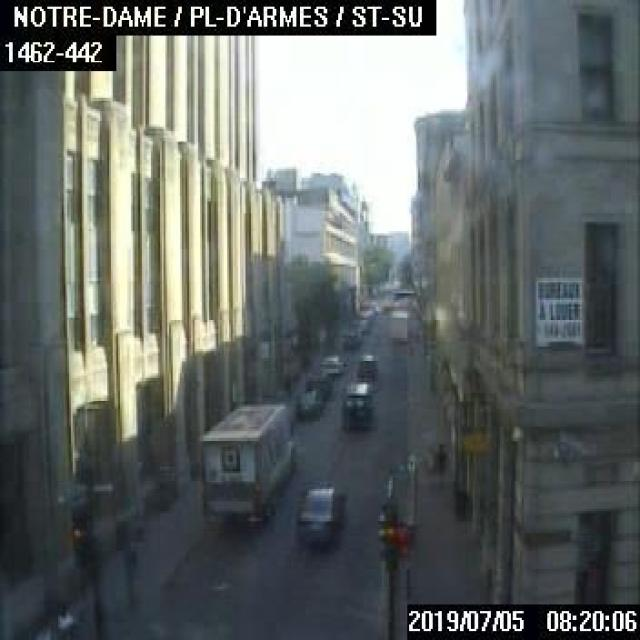pedestrian: (52, 600, 72, 638), (433, 440, 445, 476)
vehicle: (198, 404, 294, 522), (289, 482, 346, 538), (338, 378, 372, 426), (353, 353, 379, 388), (306, 369, 332, 400), (296, 387, 321, 417), (388, 309, 407, 341), (319, 352, 343, 374), (342, 328, 360, 348), (354, 318, 368, 332)
